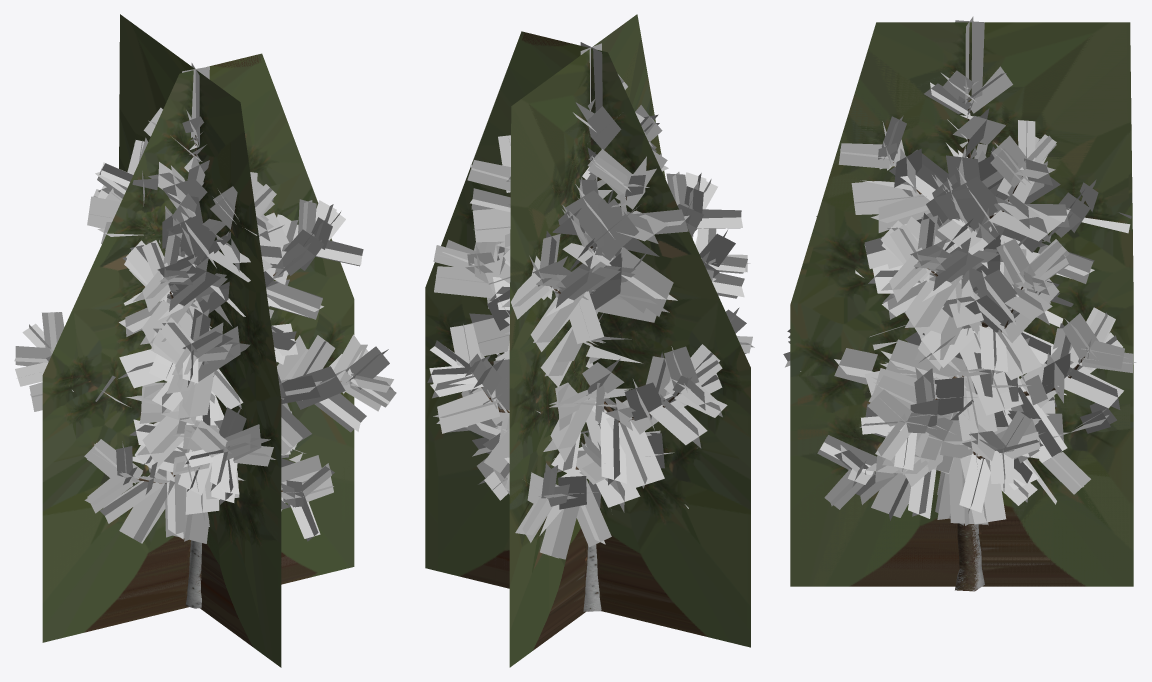
File: Spruce_bush1.fbx
The picture shows the model from 3 angles, left to right: view 1: azimuth 30°, elevation 25°; view 2: azimuth 150°, elevation 25°; view 3: azimuth 270°, elevation 25°; orthographic projection. The views are drawn at different scales.
Parts seen in each view (by area): view 1: Billboard, LOD0; view 2: Billboard, LOD0; view 3: Billboard, LOD0.
Part boxes in pixels (left/top/right/bottom): Billboard: left=42, top=14, right=354, bottom=667; LOD0: left=14, top=63, right=396, bottom=608; Billboard: left=425, top=14, right=750, bottom=667; LOD0: left=427, top=42, right=754, bottom=611; Billboard: left=790, top=22, right=1133, bottom=586; LOD0: left=783, top=16, right=1136, bottom=591.
Size of what is drawn, in the model's own units: 160 by 263 by 149.
